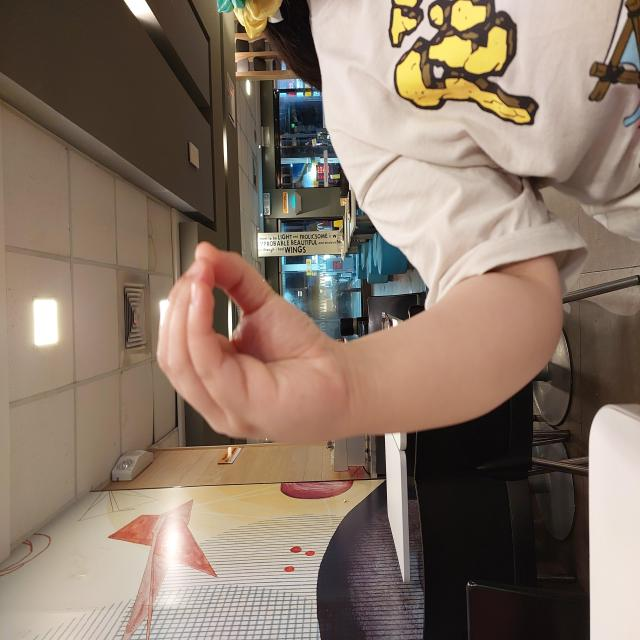O: (192, 154, 400, 351)
